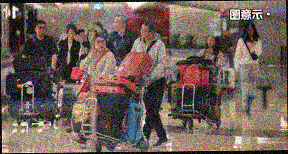without_mask: (93, 38, 107, 52), (112, 18, 123, 32), (140, 25, 149, 39), (36, 24, 46, 36), (206, 36, 215, 46), (88, 32, 96, 42), (246, 28, 254, 37), (68, 30, 76, 39), (94, 24, 102, 33), (78, 32, 86, 40)
